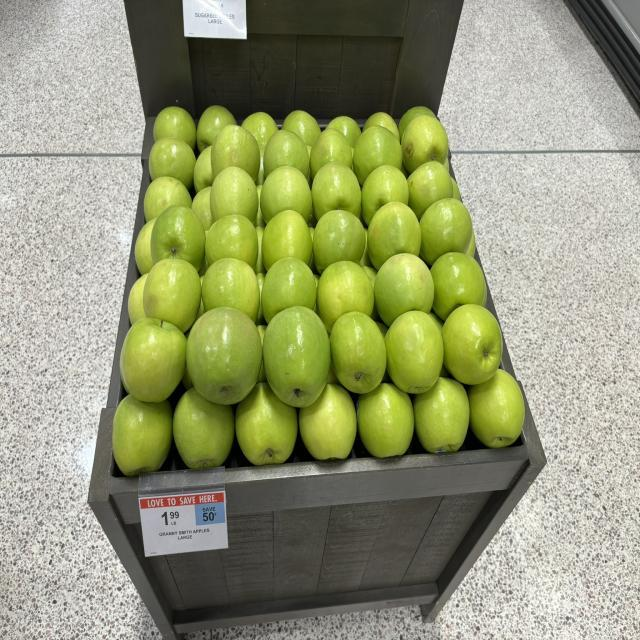Apple -Green-: (186, 307, 262, 405), (262, 307, 331, 408), (120, 318, 186, 402), (235, 382, 298, 465), (172, 387, 235, 468), (384, 310, 444, 393), (441, 305, 502, 385), (112, 395, 172, 476), (468, 368, 525, 448), (330, 312, 386, 393), (374, 253, 434, 327), (412, 377, 470, 453), (299, 383, 356, 460), (144, 258, 201, 333), (358, 383, 414, 458), (316, 260, 374, 332), (430, 252, 486, 320), (202, 258, 260, 322), (261, 257, 316, 323), (151, 205, 205, 272), (419, 198, 472, 265), (368, 202, 421, 269), (312, 210, 365, 273), (261, 210, 312, 270), (352, 125, 402, 185), (260, 167, 312, 223), (311, 162, 361, 220), (361, 165, 409, 225), (205, 215, 259, 268), (211, 125, 260, 182), (401, 115, 449, 173), (210, 167, 259, 223), (408, 162, 454, 218), (149, 137, 196, 188), (264, 130, 310, 178), (144, 177, 191, 222), (310, 128, 352, 178), (196, 105, 236, 152), (154, 107, 196, 149), (282, 110, 321, 147), (241, 112, 278, 147), (135, 218, 156, 275), (399, 107, 436, 139), (328, 117, 361, 148), (128, 273, 148, 324), (194, 147, 215, 193), (191, 187, 214, 229), (364, 112, 400, 138), (254, 225, 266, 273), (254, 185, 265, 227), (256, 273, 265, 324), (360, 228, 371, 267), (255, 145, 265, 185), (362, 265, 378, 288), (466, 232, 476, 257), (451, 177, 461, 201), (258, 362, 266, 383), (258, 325, 266, 344), (444, 157, 450, 172)
